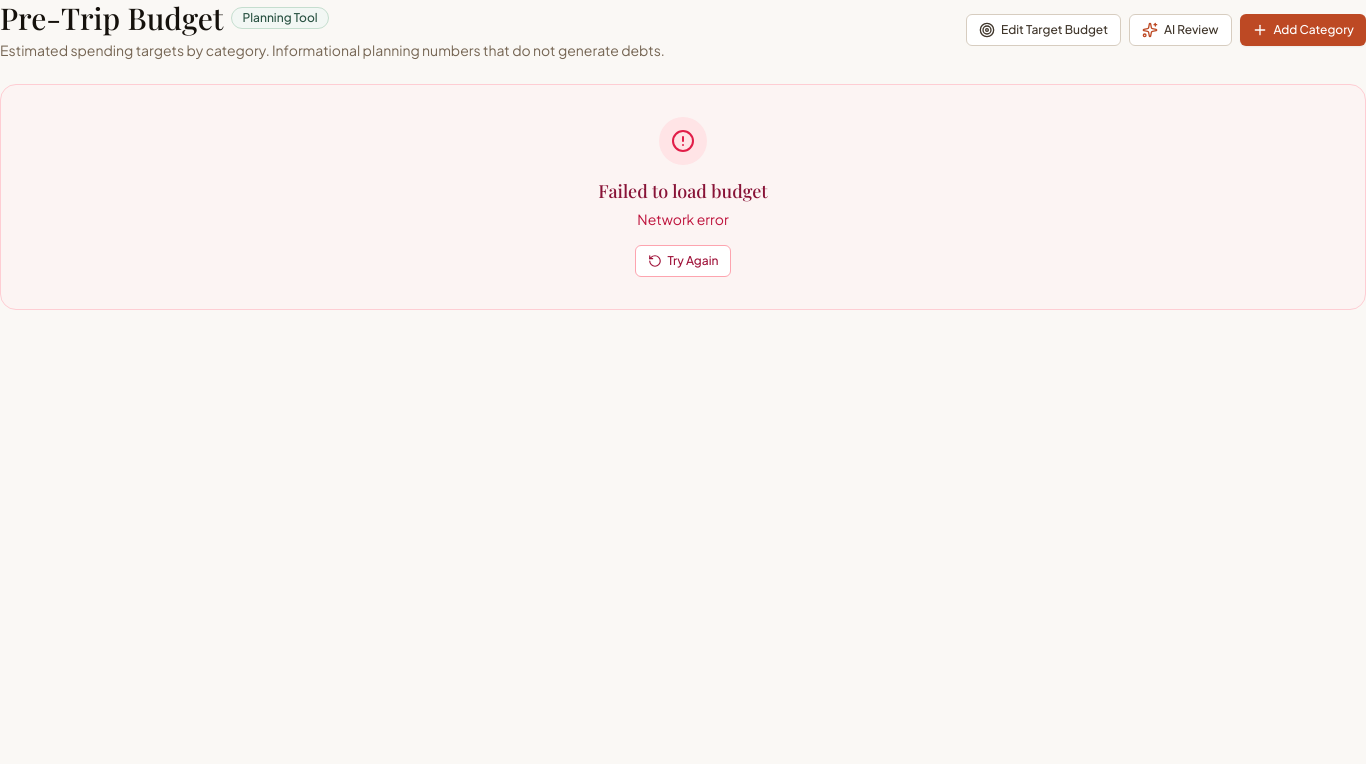
Test: TripBudgetPage › renders error state when budget fetch fails, and permits retry
Expected: the heading "Failed to load budget" is shown, 598,177 -> 768,205
Expected: the text "Network error" is shown, 637,209 -> 729,229
Click the button "Try Again": coordinates (683, 261) 634,245 -> 731,277
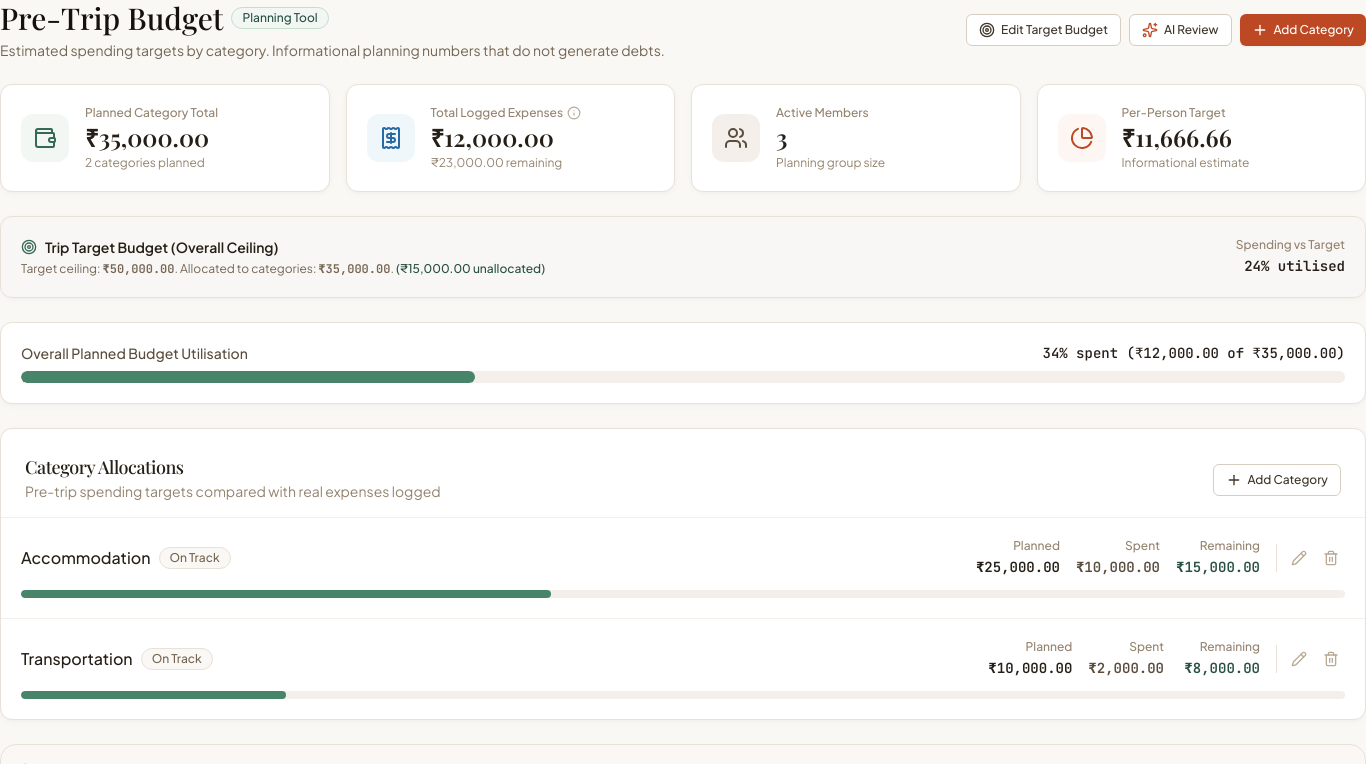
Expected: the text "Planned Category Total" is shown, 85,105 -> 218,121
